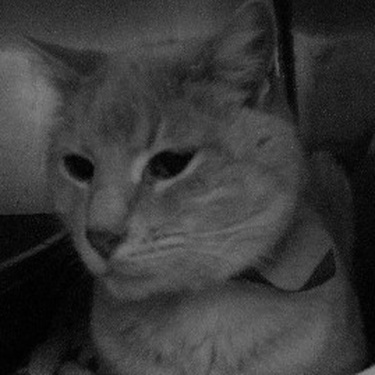cat: (1, 5, 368, 370)
